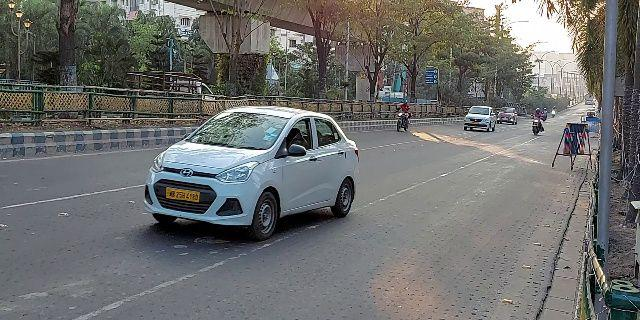Car: (142, 104, 362, 247), (461, 104, 498, 133), (496, 108, 519, 126)
Motorbike: (528, 104, 547, 140), (394, 98, 411, 133)
